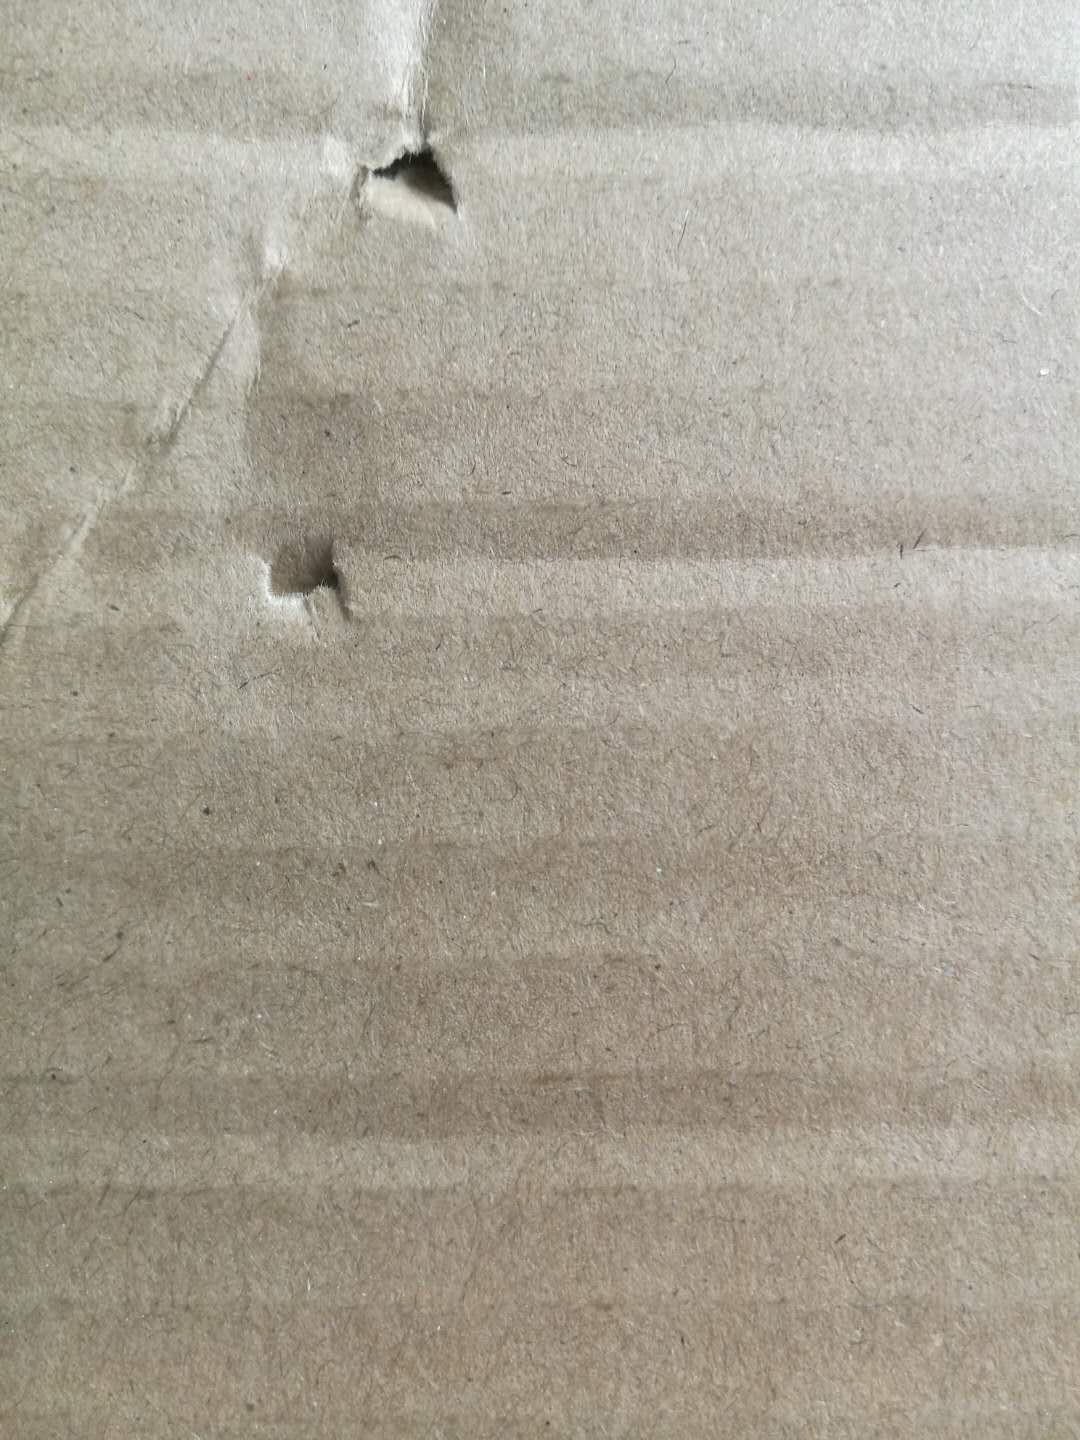defect: (1, 5, 512, 679), (440, 488, 1080, 622), (500, 67, 1080, 185), (324, 112, 503, 252), (239, 478, 385, 642)
